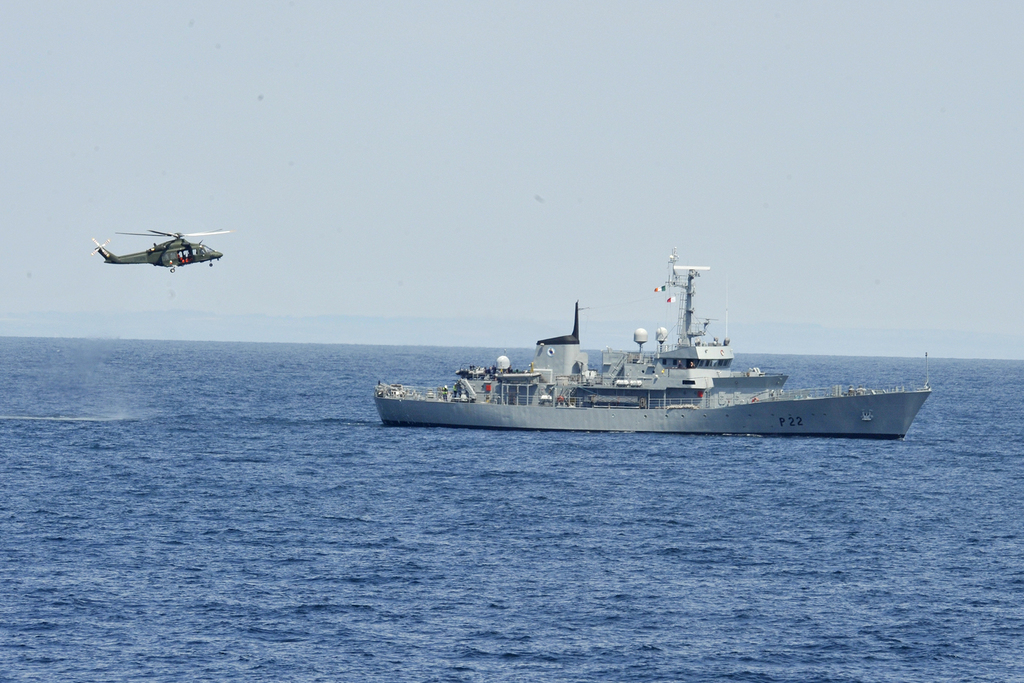boat: (342, 249, 951, 453)
